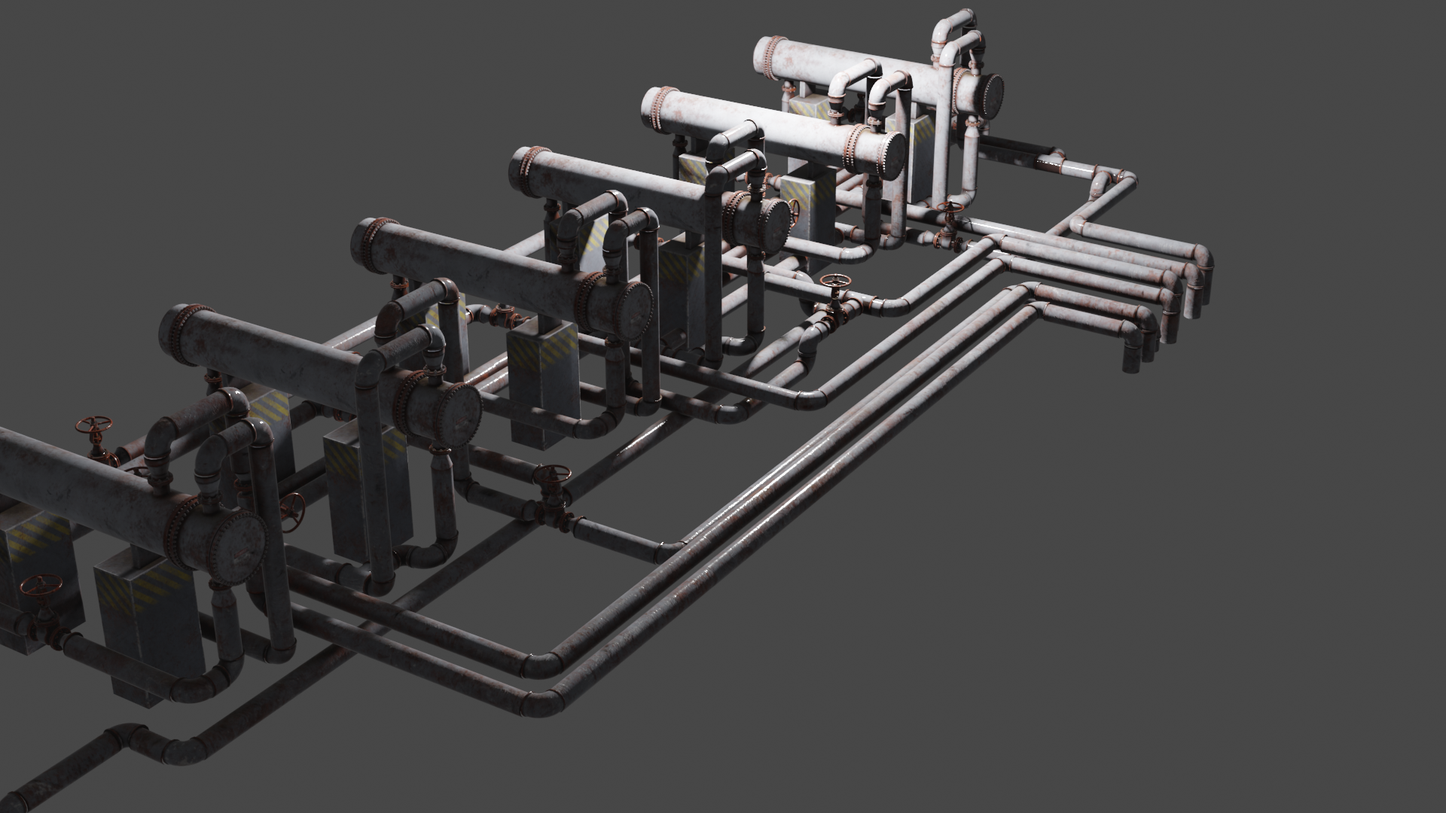HE_1: (0, 424, 266, 587)
HE_2: (153, 295, 485, 450)
HE_3: (346, 215, 652, 339)
HE_4: (503, 142, 791, 256)
HE_5: (638, 85, 903, 178)
HE_6: (745, 36, 1008, 118)
